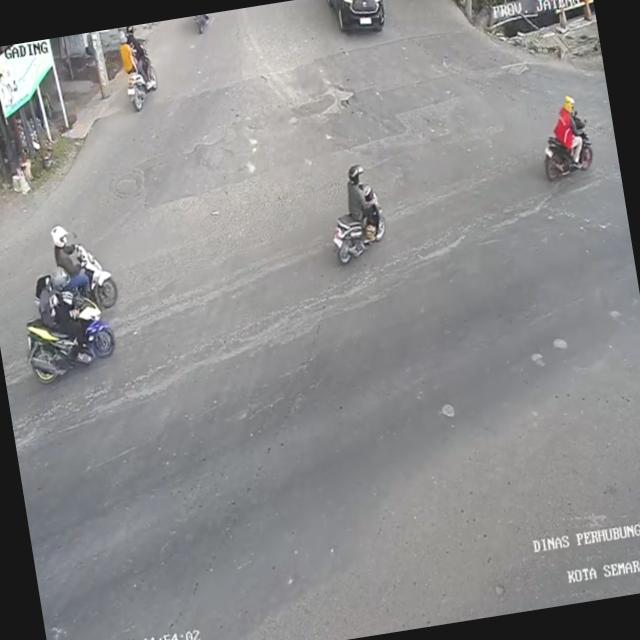motorcycle: (22, 305, 122, 384), (326, 202, 395, 262), (534, 129, 604, 186), (78, 242, 126, 309), (122, 70, 154, 116)
person: (36, 266, 78, 328), (48, 223, 88, 286), (548, 90, 586, 152), (338, 163, 372, 219), (115, 30, 142, 76), (125, 24, 148, 66)
rider_region: (15, 259, 121, 389), (44, 213, 124, 313), (322, 158, 395, 264), (530, 91, 600, 186), (111, 23, 165, 114)
